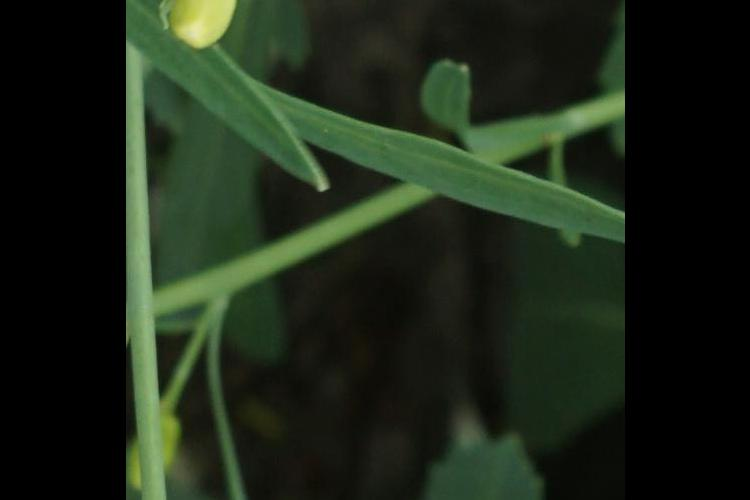bud: (158, 1, 251, 68)
